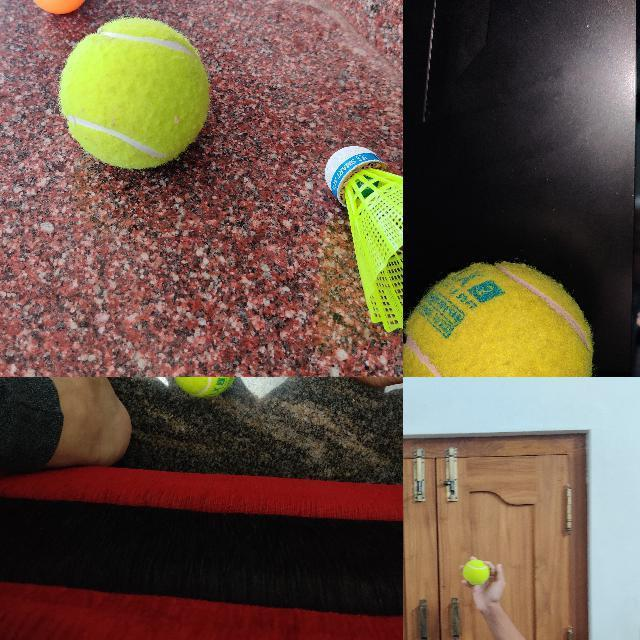tennis-ball: (403, 260, 596, 376), (59, 18, 210, 166), (170, 377, 238, 398), (463, 559, 490, 586)
